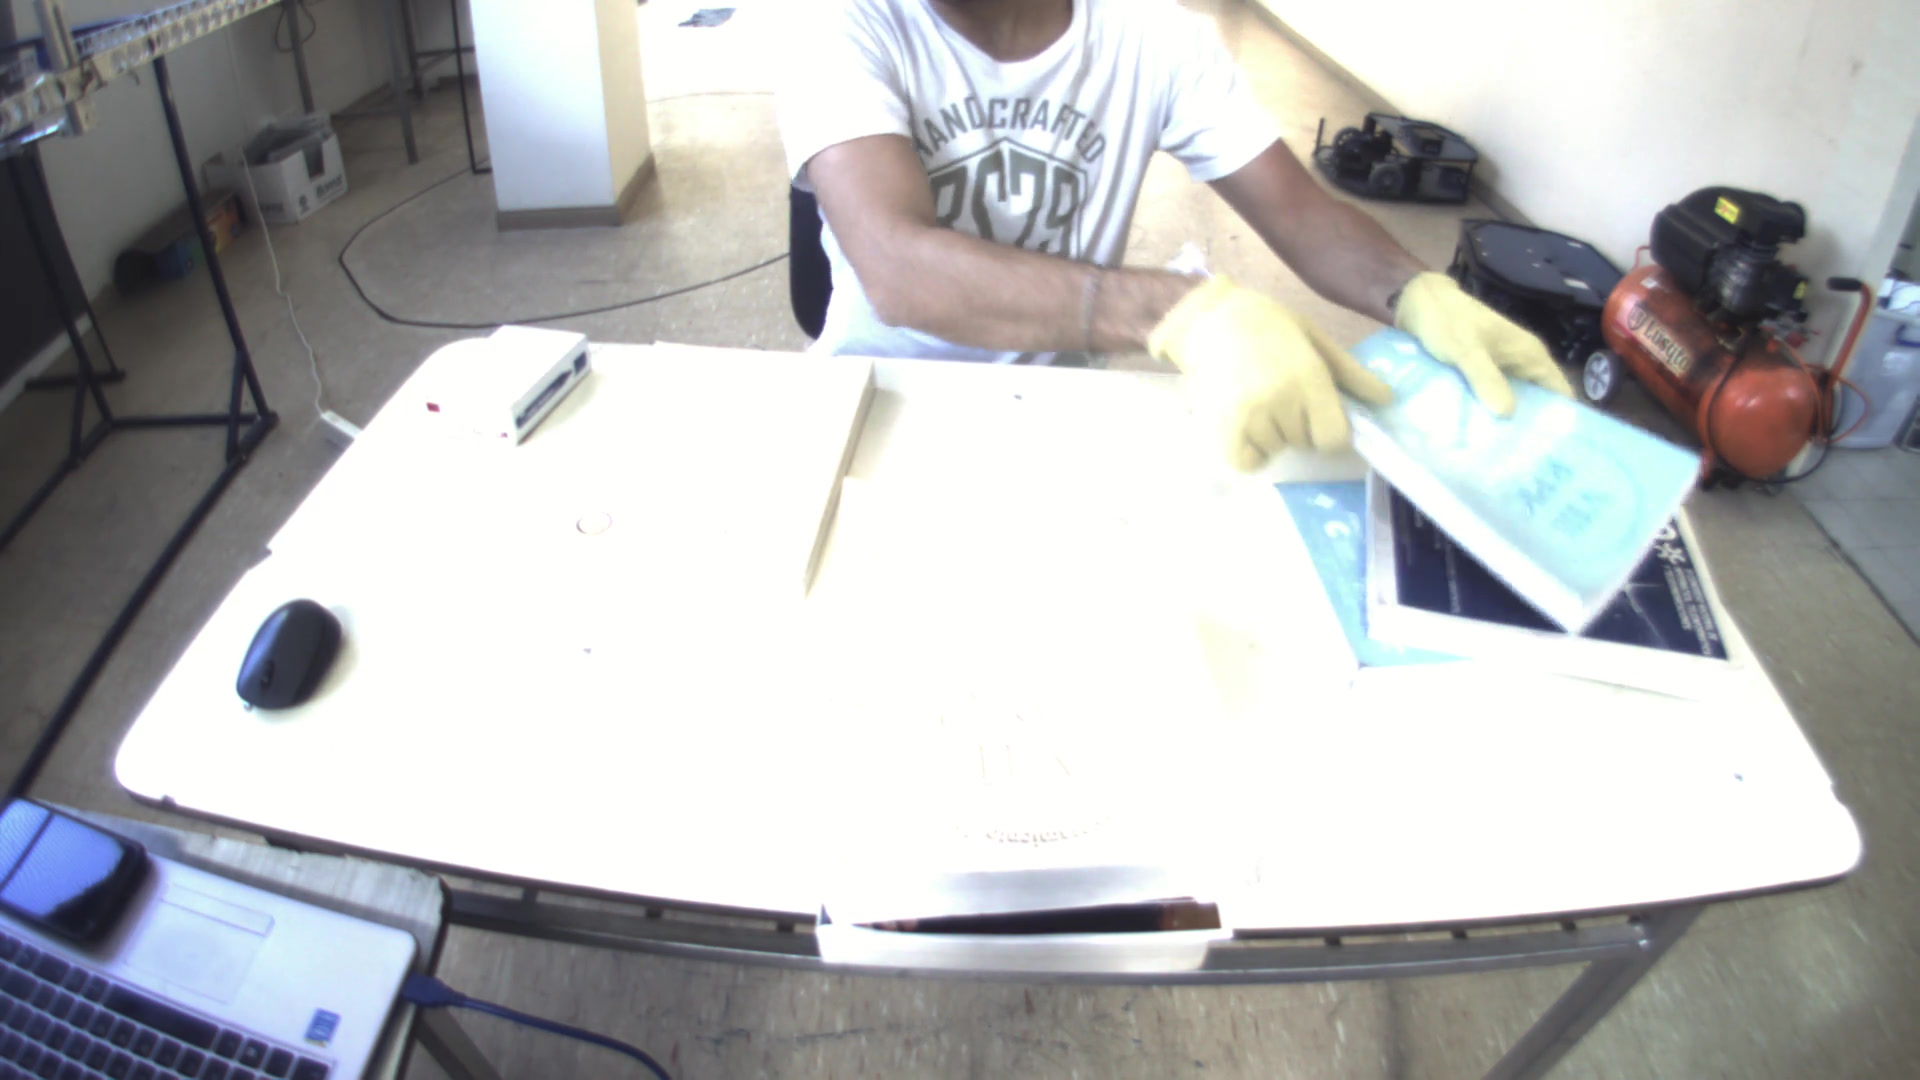hand: (1150, 266, 1386, 469), (1393, 265, 1578, 405)
